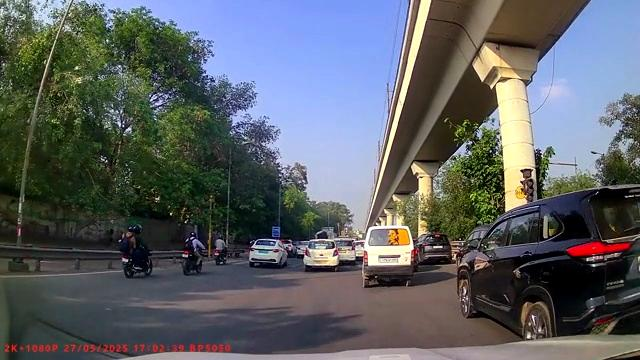motorcycle_with_helmet: (180, 231, 205, 275), (213, 234, 228, 266)
passenger_with_helmet: (117, 223, 154, 279)
